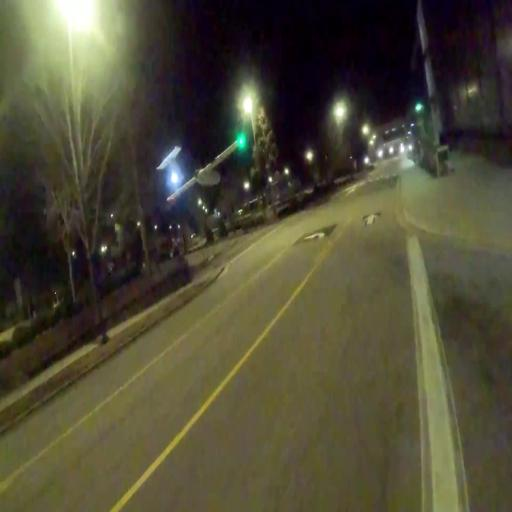uav: (154, 126, 249, 206)
